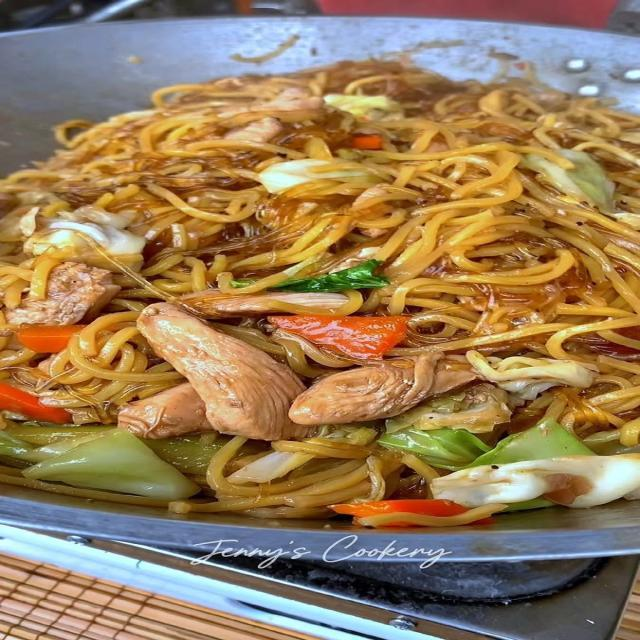pancit bihon: (0, 20, 640, 564)
